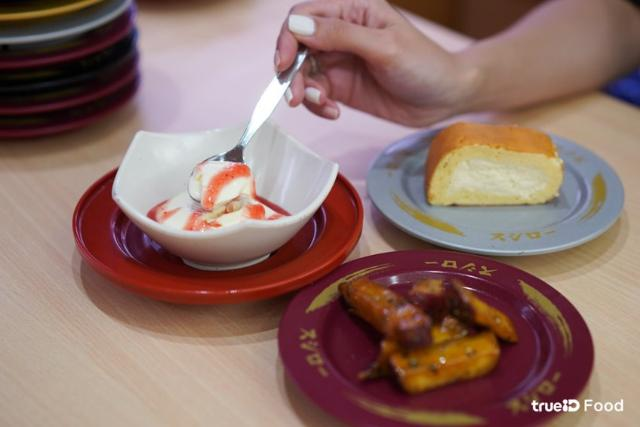janback: (10, 56, 109, 80), (1, 85, 71, 101)
jangold: (0, 0, 94, 16)
janred: (261, 241, 599, 427), (84, 156, 363, 289), (0, 89, 127, 111), (0, 47, 131, 65), (0, 119, 106, 141)
janwhite: (351, 106, 640, 256), (0, 33, 88, 44)
